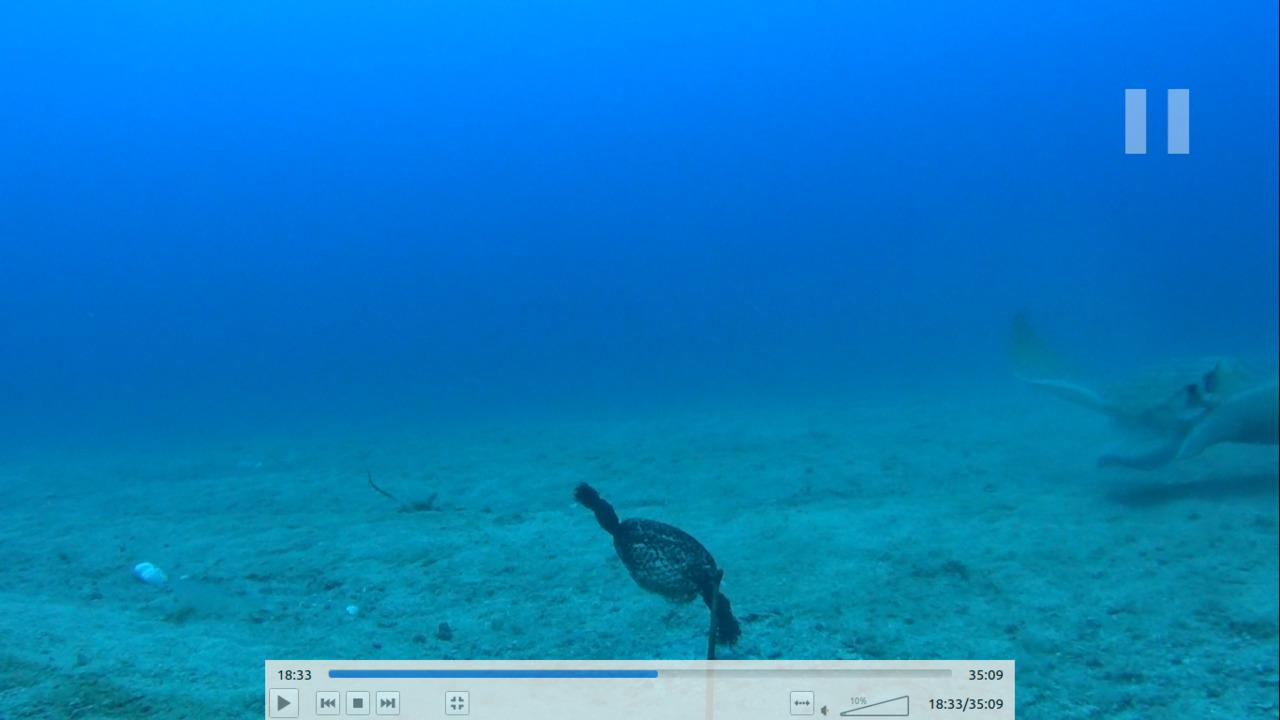myliobatis: (981, 289, 1279, 480)
